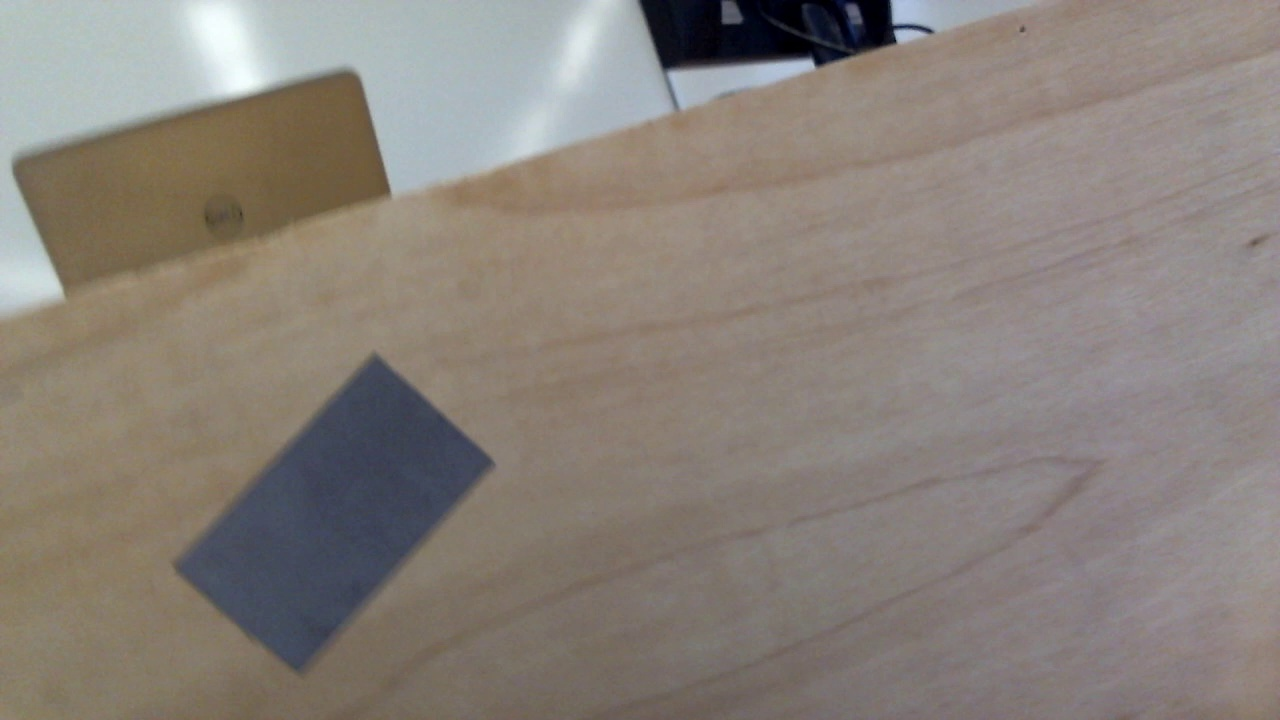Tape: (176, 356, 497, 673)
